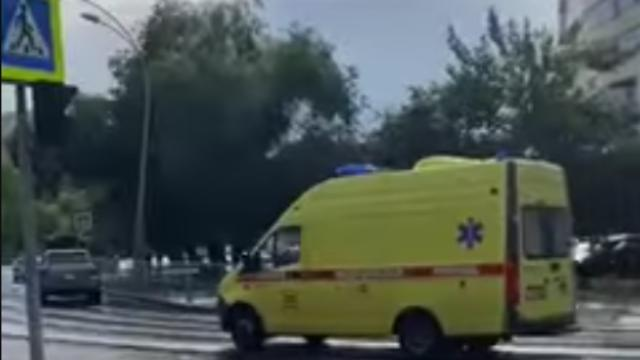intensive care unit: (217, 156, 576, 352)
non emergency car: (38, 247, 102, 307)
